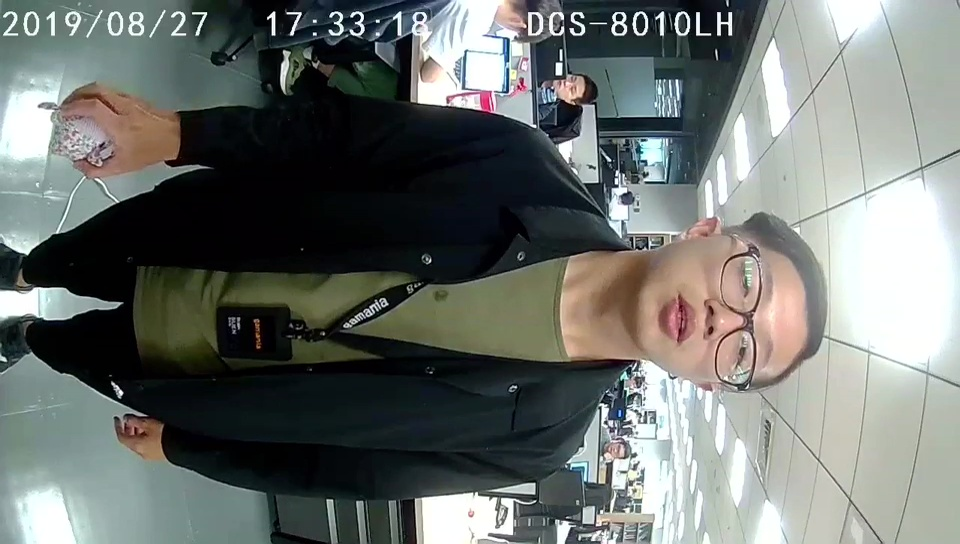pig: (49, 116, 117, 168)
